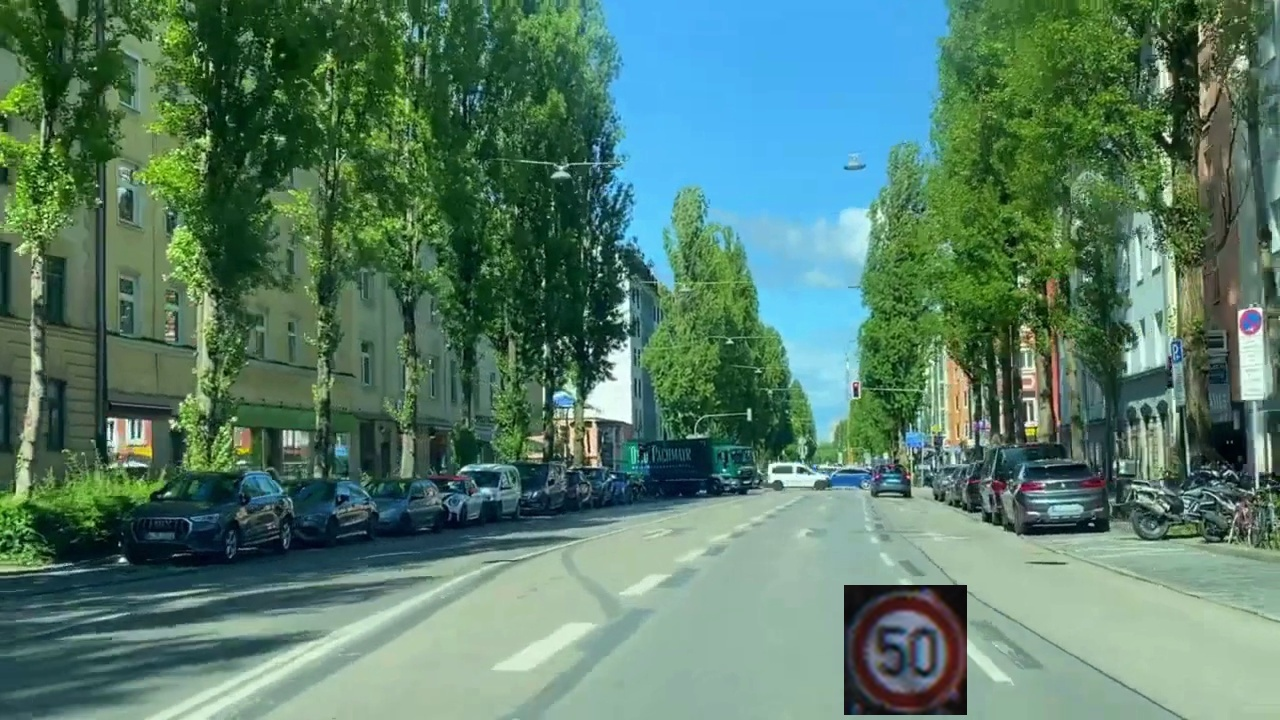Speed 50: (844, 585, 967, 715)
